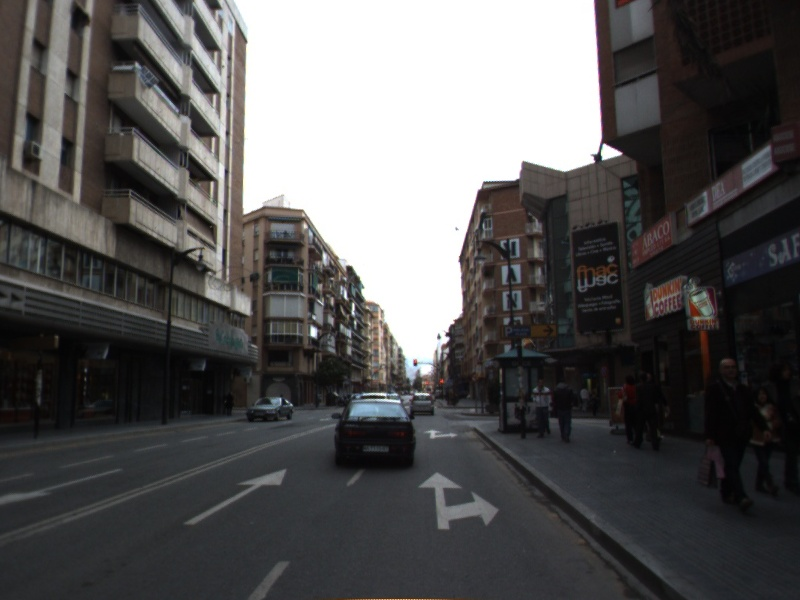STRAIGHT: (181, 467, 289, 527)
STRAIGHT_RIGHT: (415, 470, 501, 531), (422, 428, 460, 441)
